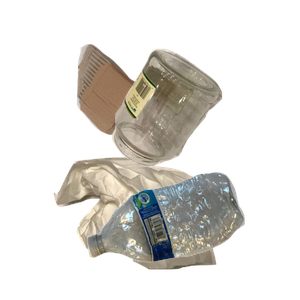cardboard: (74, 42, 225, 170)
glass: (110, 46, 300, 205)
plastic: (85, 170, 300, 300)
trash: (51, 155, 261, 300)
